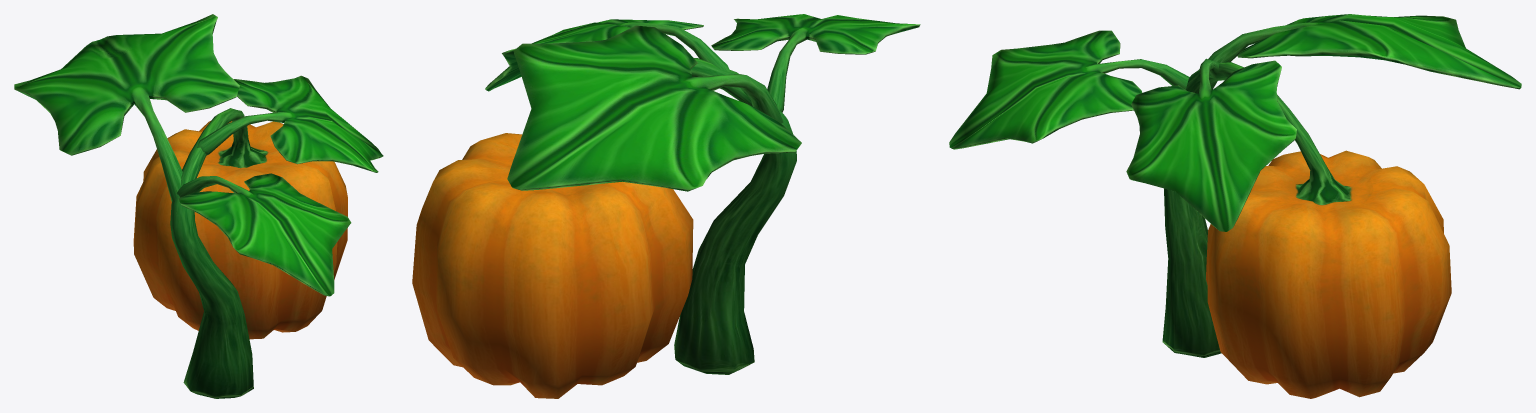
The model's file is Pumpkin_1.fbx.
3 views of the same model, side by side, from view 1: azimuth 30°, elevation 25°; view 2: azimuth 150°, elevation 25°; view 3: azimuth 270°, elevation 25° (orthographic). The views are drawn at different scales.
Parts seen in each view (by area): view 1: Pumpkin_1; view 2: Pumpkin_1; view 3: Pumpkin_1.
Part boxes in pixels (x1,y1,x2,y2): Pumpkin_1: (14, 14, 383, 398); Pumpkin_1: (412, 14, 920, 398); Pumpkin_1: (949, 14, 1521, 398).
Size of the model in its own units: 48.19 by 47.64 by 74.39.
Materials: 1 (1 with a texture image).
